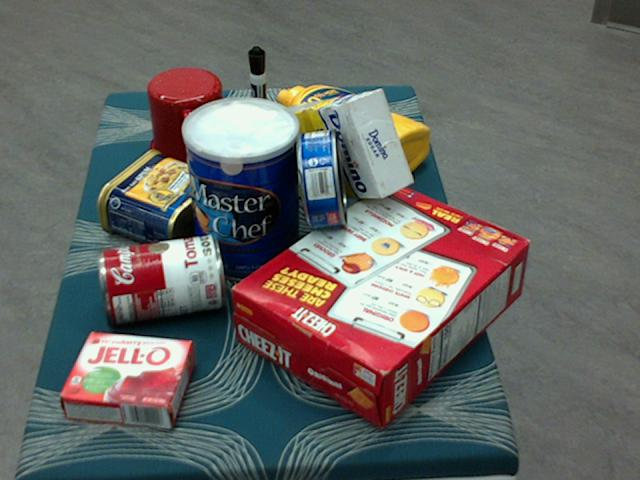cracker_box: (230, 179, 530, 426)
gelatin_box: (60, 330, 194, 428)
large_marker: (247, 46, 268, 150)
master_chef_can: (181, 99, 299, 284)
mug: (146, 68, 231, 170)
mustard_bottle: (276, 84, 428, 185)
potted_meat_can: (96, 150, 225, 251)
sugar_box: (264, 90, 412, 199)
tomato_soup_can: (96, 235, 222, 323)
tuna_fish_can: (297, 127, 347, 226)
